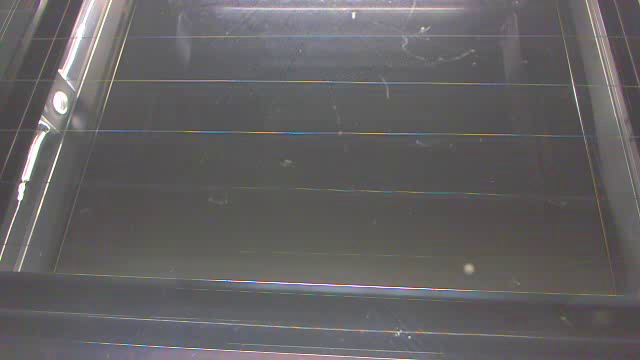alpha: (454, 258, 483, 282)
